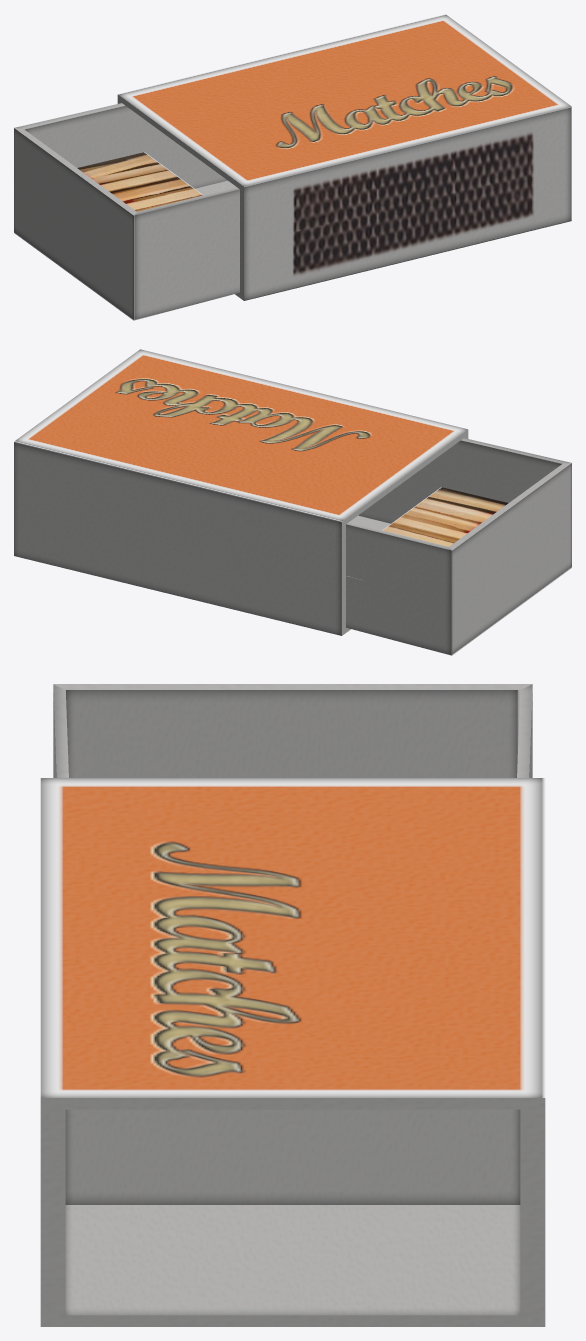
The model's file is matches.glb.
3 renders of one model, top to bottom at view 1: azimuth 30°, elevation 25°; view 2: azimuth 150°, elevation 25°; view 3: azimuth 270°, elevation 25°, orthographic. The views are drawn at different scales.
Visible parts, largest first — view 1: matchbox, matchbox_inside, matchesplane; view 2: matchbox, matchbox_inside, matchesplane; view 3: matchbox, matchbox_inside.
Part boxes in pixels (box(x1,y1,x2,y2)): matchbox: box(117, 14, 571, 300); matchbox_inside: box(14, 103, 239, 320); matchesplane: box(77, 152, 203, 211); matchbox: box(14, 349, 468, 635); matchbox_inside: box(346, 438, 571, 655); matchesplane: box(348, 487, 508, 576); matchbox: box(40, 778, 545, 1326); matchbox_inside: box(53, 684, 532, 1204).
Bounding box in the file's own units: 0.1016 × 0.0255 × 0.051.
Materials: 2 (2 with a texture image).
